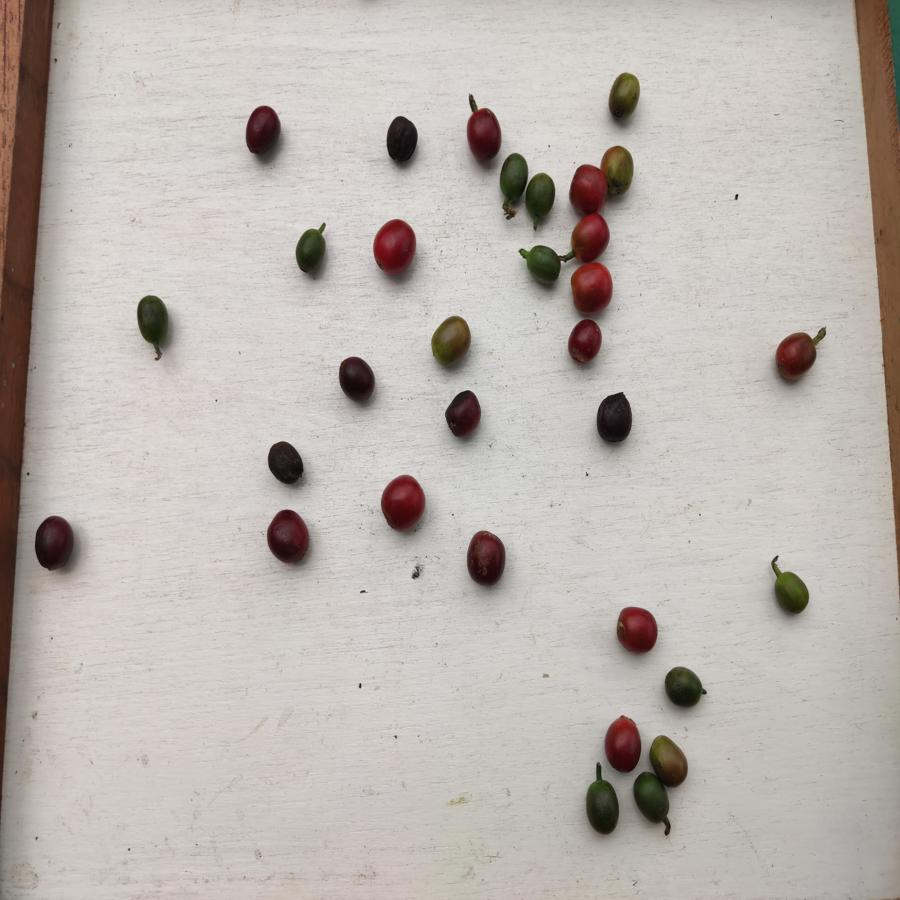Inmaduro: (585, 776, 622, 835), (771, 570, 813, 618), (633, 770, 669, 826), (134, 296, 172, 348), (664, 663, 703, 710), (524, 171, 558, 220), (293, 227, 327, 275), (526, 242, 560, 286), (499, 153, 524, 203)
Maduro: (379, 473, 429, 530), (371, 220, 417, 277), (602, 715, 646, 773), (569, 262, 613, 314), (615, 604, 659, 655), (776, 332, 818, 383), (569, 162, 605, 213), (566, 319, 604, 366), (571, 212, 609, 259)
Pinton: (430, 316, 471, 364), (651, 735, 689, 786), (605, 71, 643, 120), (603, 146, 634, 194)
Sobremaduro: (31, 512, 75, 573), (467, 527, 508, 588), (266, 510, 311, 564), (594, 392, 634, 446), (465, 104, 503, 159), (243, 105, 282, 158), (336, 355, 376, 404), (268, 436, 308, 484), (383, 116, 421, 166), (442, 389, 482, 436)
